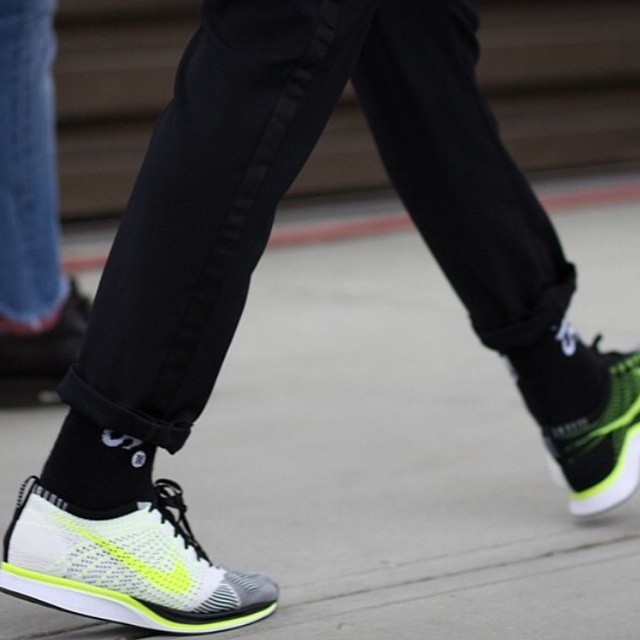sneaker: (1, 377, 294, 638), (499, 303, 640, 530)
